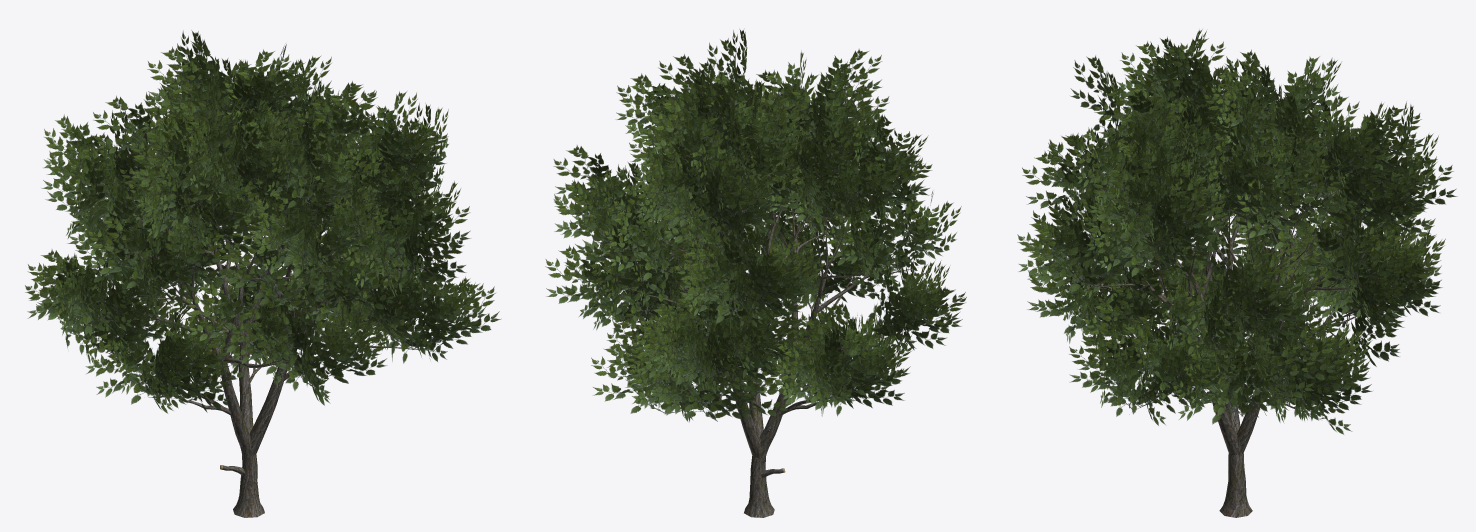
File: tree02.glb
3 renders of one model, left to right at view 1: azimuth 30°, elevation 25°; view 2: azimuth 150°, elevation 25°; view 3: azimuth 270°, elevation 25°, orthographic. The views are drawn at different scales.
Visible parts, largest first — view 1: tree, Plane.453, Plane.303, Plane.495, Plane.302, Plane.050, Plane.095, Plane.517, Plane.489, Plane.173, Plane.141, Plane.476 (+97 smaller); view 2: tree, Plane.490, Plane.295, Plane.426, Plane.335, Plane.041, Plane.294, Plane.236, Plane.371, Plane.472, Plane.473, Plane.396 (+100 smaller); view 3: tree, Plane.221, Plane.343, Plane.291, Plane.076, Plane.040, Plane.282, Plane.189, Plane.167, Plane.161, Plane.051, Plane.042 (+108 smaller).
Boxes of the visible parts, x1,y1,x2,y2 form: tree: (89, 171, 438, 517); Plane.453: (185, 282, 268, 353); Plane.303: (87, 215, 170, 289); Plane.495: (129, 127, 212, 204); Plane.302: (151, 229, 239, 292); Plane.050: (224, 231, 305, 309); Plane.095: (308, 199, 391, 264); Plane.517: (304, 328, 388, 383); Plane.489: (41, 142, 120, 225); Plane.173: (375, 119, 440, 177); Plane.141: (302, 144, 384, 214); Plane.476: (315, 258, 398, 314); tree: (614, 164, 916, 517); Plane.490: (868, 197, 944, 267); Plane.295: (603, 212, 680, 280); Plane.426: (710, 364, 795, 421); Plane.335: (683, 257, 744, 323); Plane.041: (545, 245, 622, 317); Plane.294: (574, 209, 645, 288); Plane.236: (591, 343, 673, 413); Plane.371: (649, 97, 717, 166); Plane.472: (832, 342, 911, 396); Plane.473: (775, 345, 851, 410); Plane.396: (847, 155, 924, 214); tree: (1064, 147, 1377, 517); Plane.221: (1087, 165, 1162, 244); Plane.343: (1017, 217, 1097, 287); Plane.291: (1280, 219, 1367, 288); Plane.076: (1117, 41, 1182, 114); Plane.040: (1260, 322, 1337, 390); Plane.282: (1230, 342, 1317, 407); Plane.189: (1236, 174, 1319, 233); Plane.167: (1276, 56, 1340, 135); Plane.161: (1210, 114, 1292, 173); Plane.051: (1236, 178, 1316, 249); Plane.042: (1328, 171, 1402, 224).
Size of the model in its own units: 22.95 by 22.31 by 20.17.
Materials: 3 (3 with a texture image).
